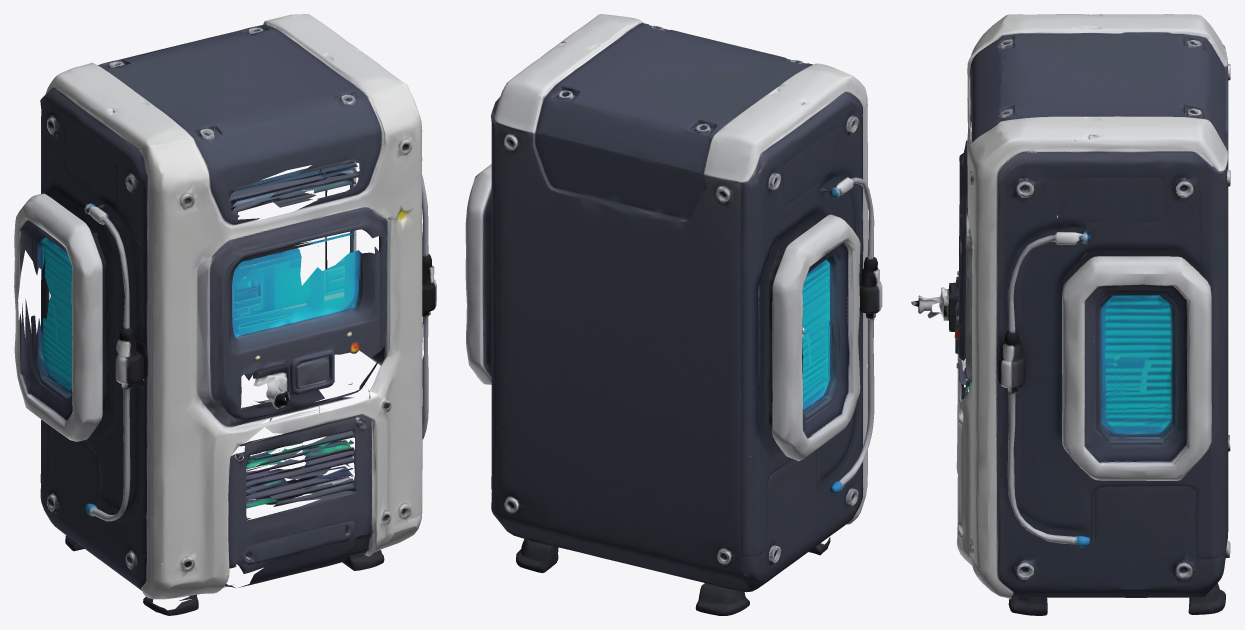
The model's file is medical_wall_unit_tripo_20261008.glb.
3 renders of one model, left to right at view 1: azimuth 30°, elevation 25°; view 2: azimuth 150°, elevation 25°; view 3: azimuth 270°, elevation 25°, orthographic. The views are drawn at different scales.
Parts seen in each view (by area): view 1: tripo_node_5affa583-0772-4141-8287-cb4ff9efa62b; view 2: tripo_node_5affa583-0772-4141-8287-cb4ff9efa62b; view 3: tripo_node_5affa583-0772-4141-8287-cb4ff9efa62b.
Boxes of the visible parts, <box> form: tripo_node_5affa583-0772-4141-8287-cb4ff9efa62b: <box>14,14,436,615</box>; tripo_node_5affa583-0772-4141-8287-cb4ff9efa62b: <box>465,14,882,615</box>; tripo_node_5affa583-0772-4141-8287-cb4ff9efa62b: <box>911,14,1230,615</box>.
Bounding box in the file's own units: 0.6596 × 0.9 × 0.5344.
1 material, 1 textured.
